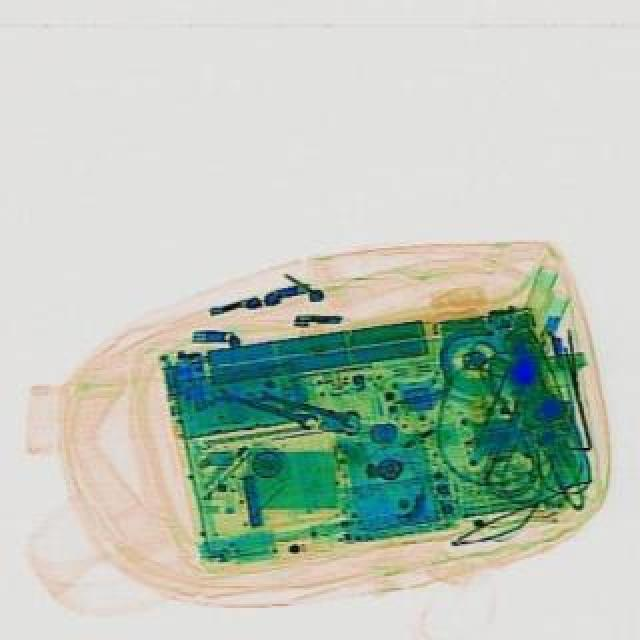scissors: (208, 382, 320, 430), (248, 384, 360, 430)
